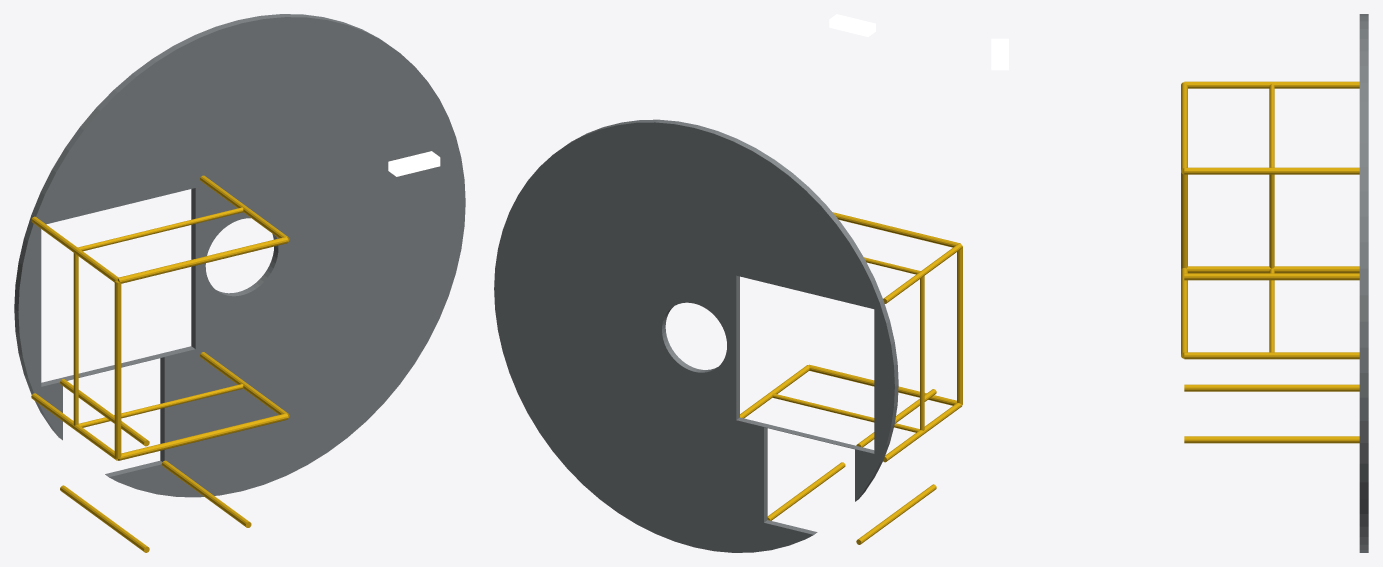
The model's file is platform_4.glb.
3 views of the same model, side by side, from view 1: azimuth 30°, elevation 25°; view 2: azimuth 150°, elevation 25°; view 3: azimuth 270°, elevation 25° (orthographic). The views are drawn at different scales.
Parts seen in each view (by area): view 1: platform_4; view 2: platform_4; view 3: platform_4.
Boxes of the visible parts, bbox=[...] form: platform_4: bbox=[14, 14, 465, 552]; platform_4: bbox=[494, 14, 962, 552]; platform_4: bbox=[991, 14, 1368, 552].
Bounding box in the file's own units: 3.08 × 3.08 × 2.15.
